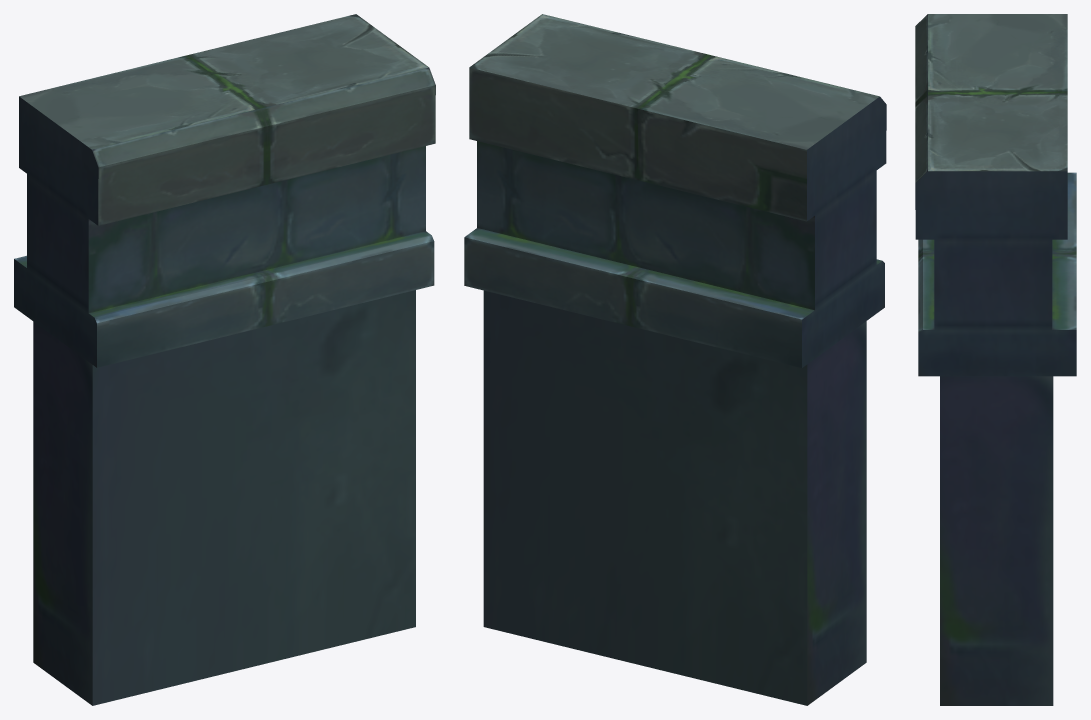
Rendered from zhucheng_langan09.FBX.
3 renders of one model, left to right at view 1: azimuth 30°, elevation 25°; view 2: azimuth 150°, elevation 25°; view 3: azimuth 270°, elevation 25°, orthographic. The views are drawn at different scales.
Visible parts, largest first — view 1: zhucheng_langan09; view 2: zhucheng_langan09; view 3: zhucheng_langan09.
Boxes of the visible parts, x1,y1,x2,y2 form: zhucheng_langan09: (14, 14, 435, 705); zhucheng_langan09: (464, 14, 886, 705); zhucheng_langan09: (915, 14, 1076, 705).
Size of the model in its own units: 310 by 494 by 134.
